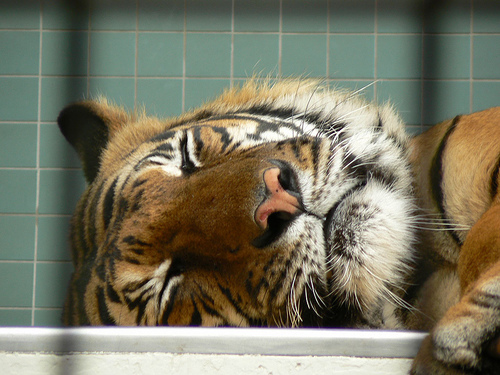Tigre: (60, 81, 484, 333)
